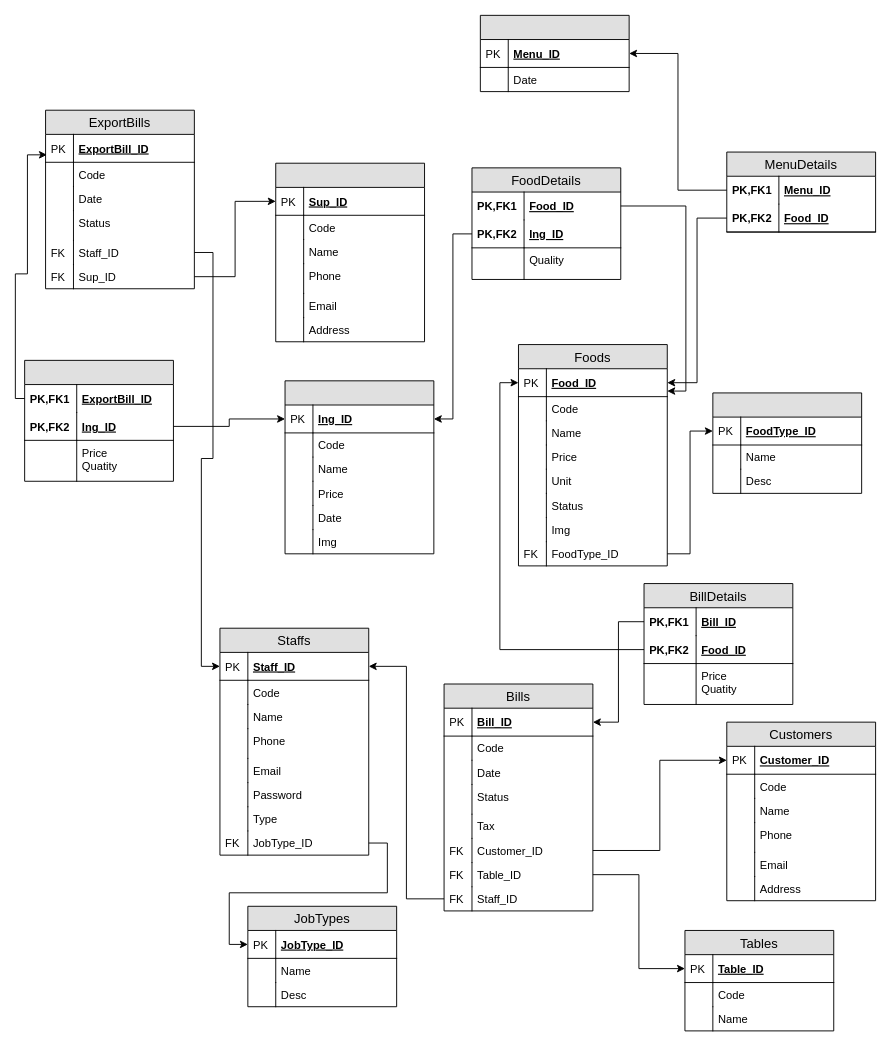
This 891x1046 diagram has some shape labels left out. Here are the shapes that lost their labels. From the top down, the box of each, then its label:
(479, 14, 629, 92): Menus
(275, 162, 425, 342): Suppliers
(24, 359, 173, 481): ExportBillDetails
(712, 392, 862, 493): FoodTypes
(284, 380, 434, 554): Ingredients
